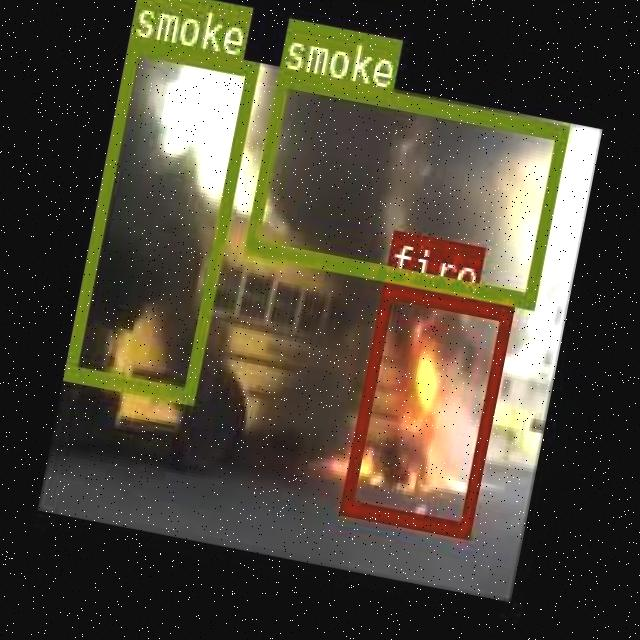fire: (340, 278, 511, 534)
smoke: (243, 68, 566, 306), (62, 35, 256, 400)
